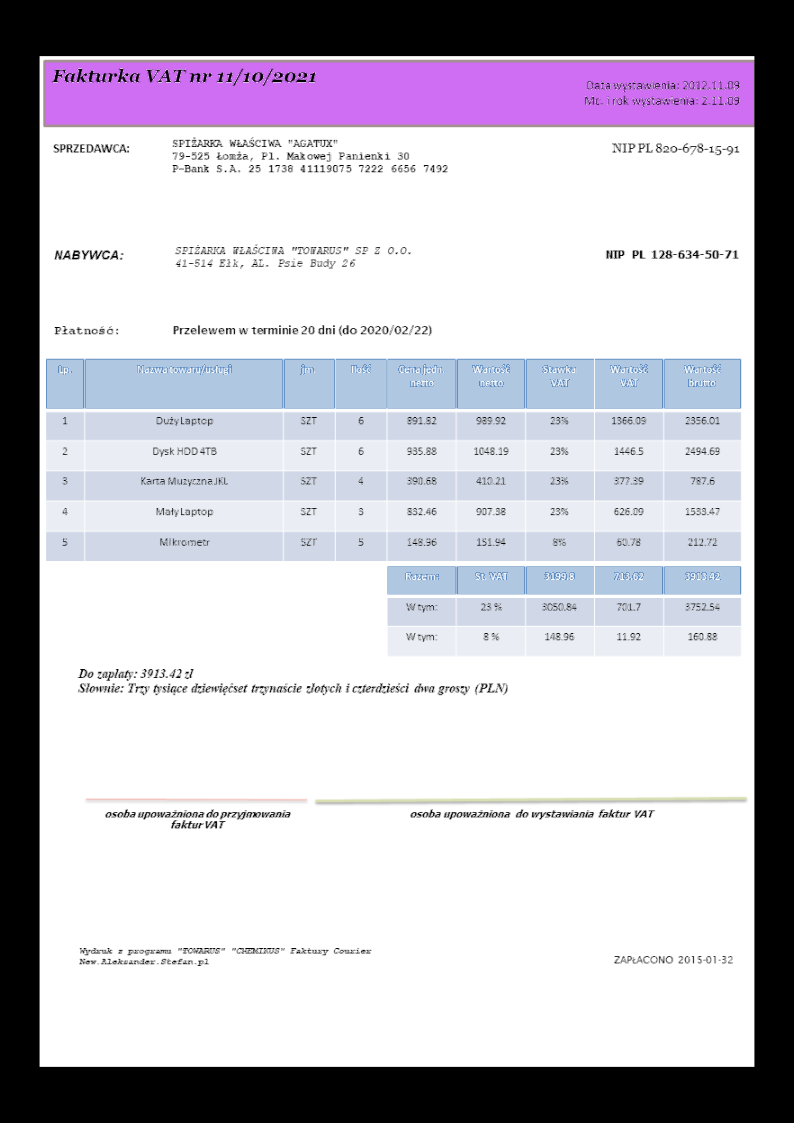Table: (43, 356, 742, 562), (386, 565, 742, 657)
TextBox: (75, 665, 510, 698), (168, 135, 449, 176), (76, 944, 374, 969), (172, 242, 414, 270), (49, 65, 318, 87), (581, 77, 743, 107), (103, 806, 292, 831), (408, 806, 658, 823), (170, 323, 434, 339), (603, 246, 740, 262), (608, 141, 741, 157), (610, 952, 734, 969), (51, 140, 131, 155), (51, 246, 124, 262), (52, 322, 122, 338)
